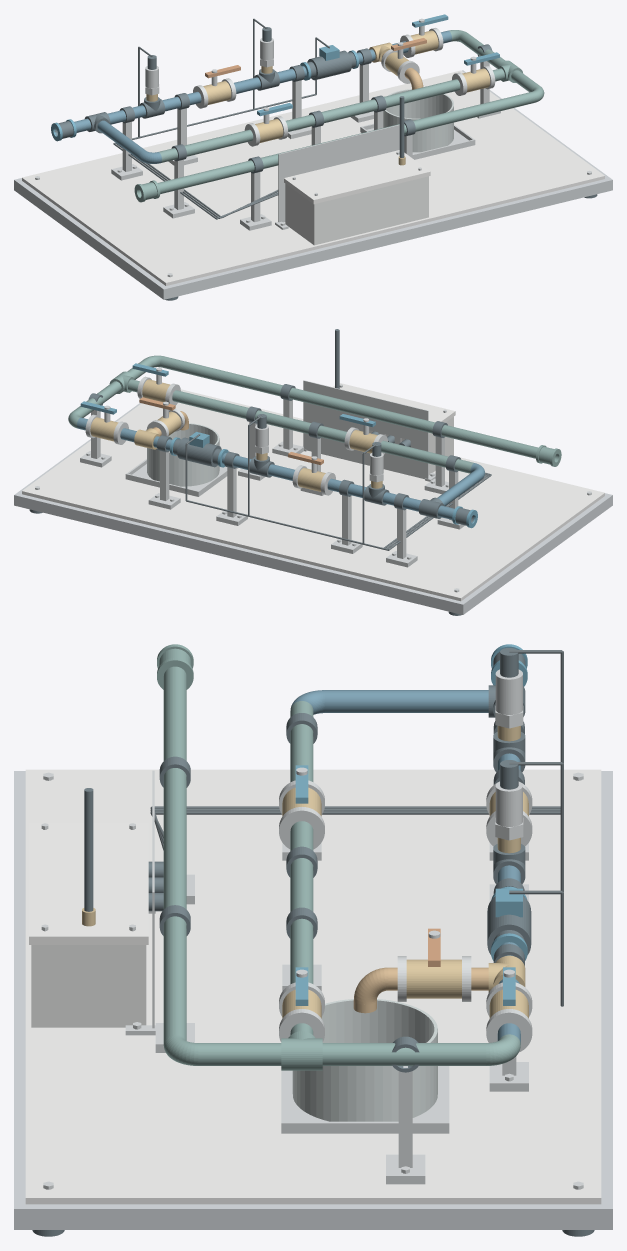
File: bench_layout.glb
3 renders of one model, top to bottom at view 1: azimuth 30°, elevation 25°; view 2: azimuth 150°, elevation 25°; view 3: azimuth 270°, elevation 25°, orthographic. The views are drawn at different scales.
Parts seen in each view (by area): view 1: removable_deck, rail_front, electronics_shell, electronics_lid, perforated_splash_guard, return_out, open_measuring_vessel, rail_left, B_to_Bload, B_to_switch, Q_meter_envelope, removable_catch_tray (+7 smaller); view 2: removable_deck, rail_rear, perforated_splash_guard, return_out, rail_left, open_measuring_vessel, B_to_Bload, B_to_switch, removable_catch_tray, electronics_lid, Q_meter_envelope, B_vertical (+10 smaller); view 3: removable_deck, rail_right, electronics_lid, open_measuring_vessel, electronics_shell, return_out, rail_front, rail_rear, removable_catch_tray, B_vertical, return_upper, B_to_Bload (+22 smaller).
Boxes of the visible parts, x1,y1,x2,y2 form: removable_deck: (22,70,604,285); rail_front: (158,176,612,299); electronics_shell: (285,176,428,245); electronics_lid: (284,150,430,203); perforated_splash_guard: (275,124,399,229); return_out: (157,91,535,193); open_measuring_vessel: (383,89,453,152); rail_left: (19,183,162,295); B_to_Bload: (285,79,460,131); B_to_switch: (159,129,253,162); Q_meter_envelope: (307,50,351,80); removable_catch_tray: (360,123,475,159); removable_deck: (22,389,604,601); rail_rear: (14,491,468,614); perforated_splash_guard: (302,380,435,481); return_out: (160,356,538,458); rail_left: (464,498,607,610); open_measuring_vessel: (147,423,219,486); B_to_Bload: (172,390,346,442); B_to_switch: (381,440,473,473); removable_catch_tray: (125,459,238,496); electronics_lid: (333,383,455,434); Q_meter_envelope: (177,437,221,467); B_vertical: (437,470,482,505); removable_deck: (25,769,601,1204); rail_right: (37,1204,589,1229); electronics_lid: (29,822,148,944); open_measuring_vessel: (292,999,437,1121); electronics_shell: (31,945,146,1027); return_out: (163,666,186,1043); rail_front: (14,771,36,1229); rail_rear: (590,771,612,1229); removable_catch_tray: (281,1066,449,1133); B_vertical: (325,690,488,712); return_upper: (322,1043,486,1065); B_to_Bload: (290,821,313,984).
Bounding box in the file's own units: 0.9 × 0.256 × 0.52.
